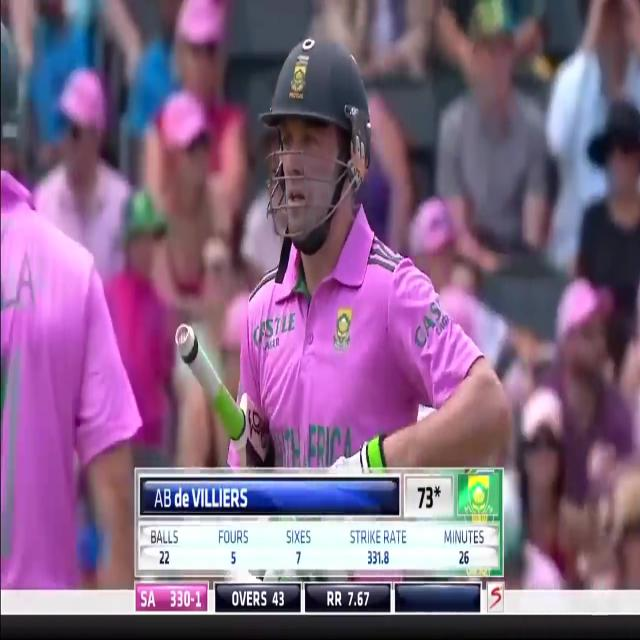Ball: (229, 36, 512, 474), (0, 0, 139, 593)
